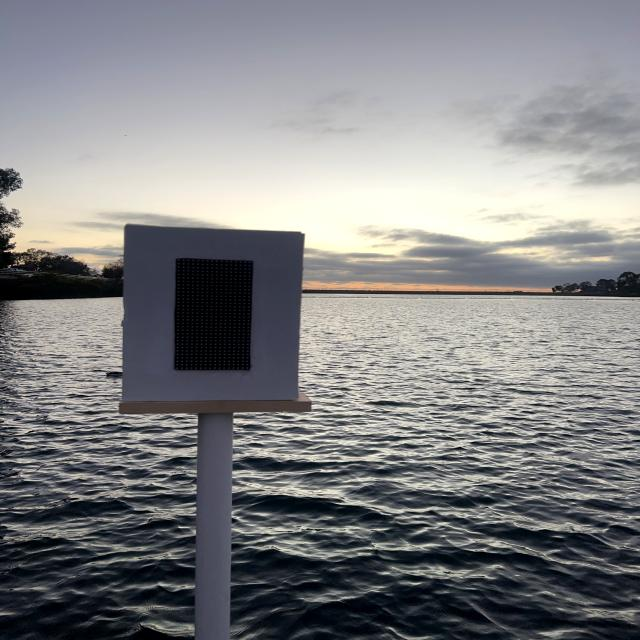led: (140, 230, 288, 402)
